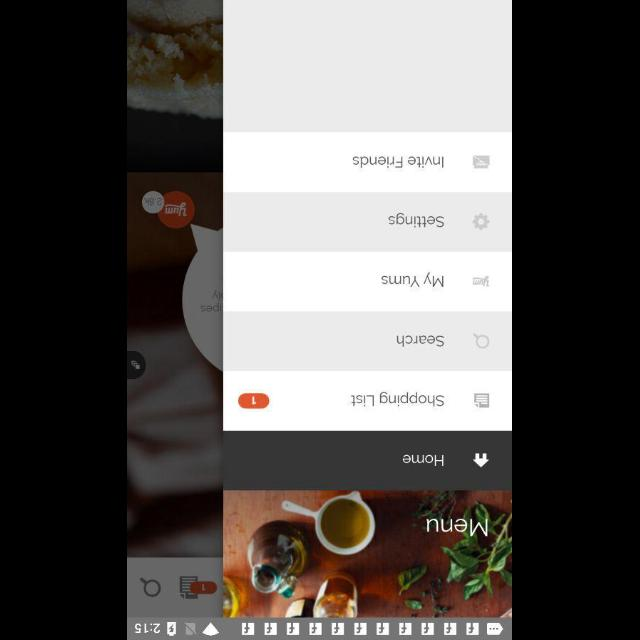icon: (473, 212, 491, 230), (472, 332, 490, 348), (474, 392, 490, 408), (473, 155, 491, 169), (472, 452, 490, 466)
image: (224, 489, 512, 616), (472, 275, 490, 287)
panel: (224, 0, 512, 618)
text: (350, 391, 446, 407), (426, 518, 488, 536), (353, 156, 445, 168), (382, 272, 444, 288), (388, 212, 446, 228), (397, 334, 445, 348), (402, 454, 444, 466)
uppertaskbar: (128, 617, 512, 639)
